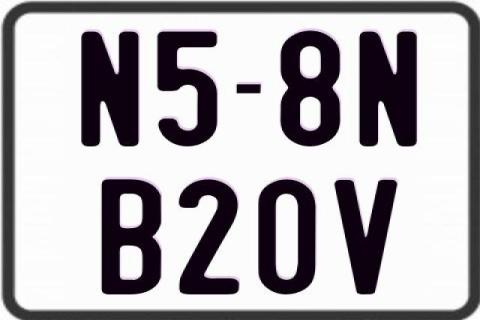0: (178, 179, 244, 297), (278, 29, 340, 149), (156, 30, 219, 146), (257, 179, 317, 297)
B: (100, 178, 162, 296)
N: (79, 29, 143, 147), (356, 29, 416, 145)
V: (333, 179, 399, 299)
